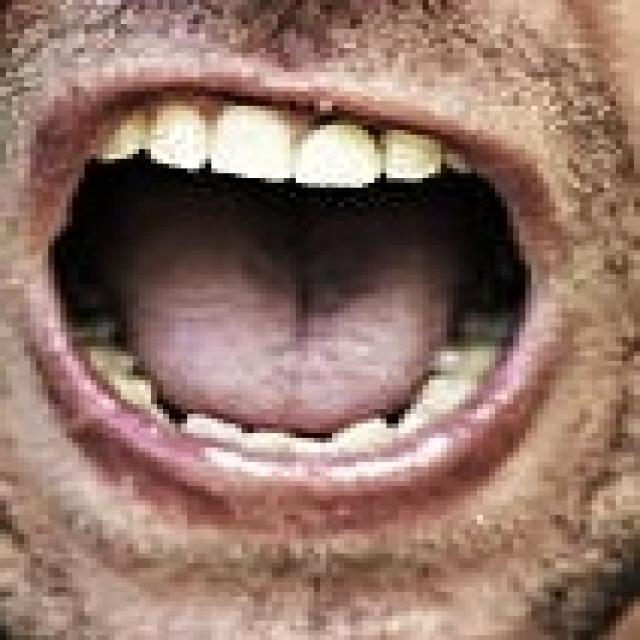open-mouth: (6, 53, 574, 515)
